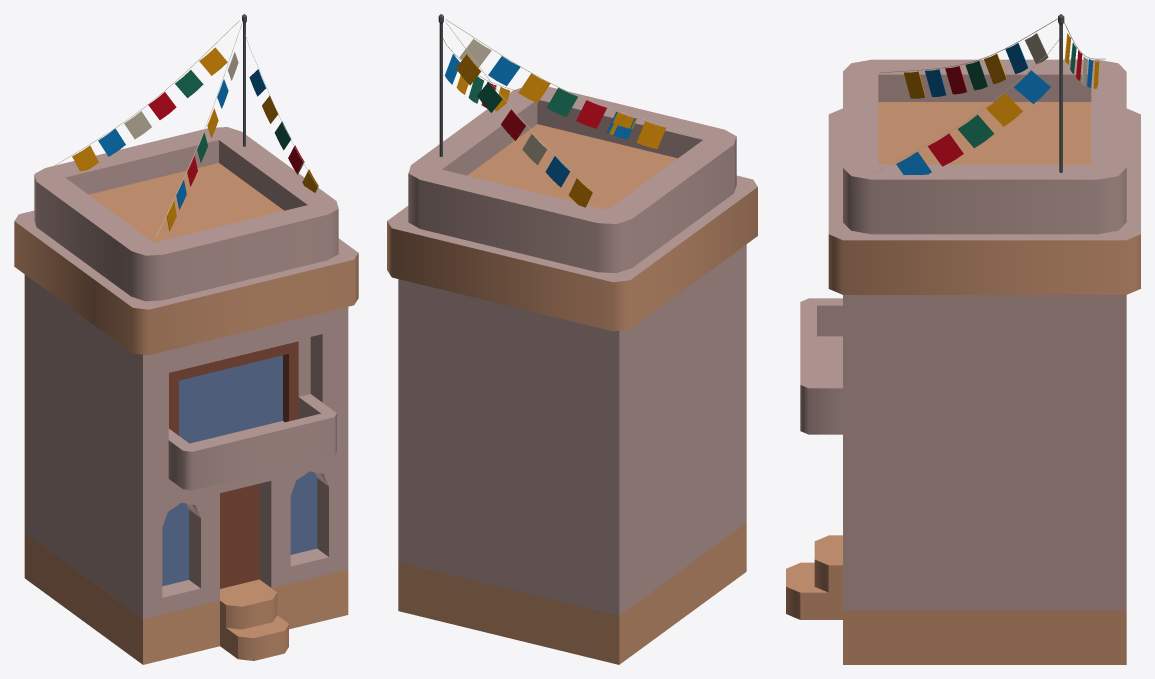
Rendered from building-b-flags.glb.
3 views of the same model, side by side, from view 1: azimuth 30°, elevation 25°; view 2: azimuth 150°, elevation 25°; view 3: azimuth 270°, elevation 25° (orthographic). The views are drawn at different scales.
Parts seen in each view (by area): view 1: building-b-flags; view 2: building-b-flags; view 3: building-b-flags.
Part boxes in pixels (left/top/right/bottom): building-b-flags: left=14, top=14, right=358, bottom=664; building-b-flags: left=387, top=14, right=757, bottom=664; building-b-flags: left=786, top=14, right=1140, bottom=664.
Bounding box in the file's own units: 1.1 × 2.5 × 1.25.
